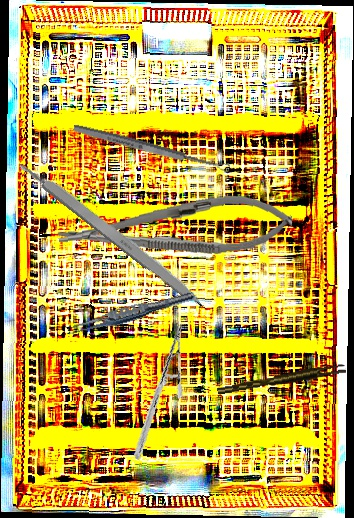Needle Holder: (56, 189, 294, 266), (111, 321, 206, 461)
Scalpel Handle: (14, 154, 211, 312)
Surgical Spoon: (72, 122, 231, 175)
Tissue Forceps: (64, 285, 197, 342), (216, 363, 347, 395)
